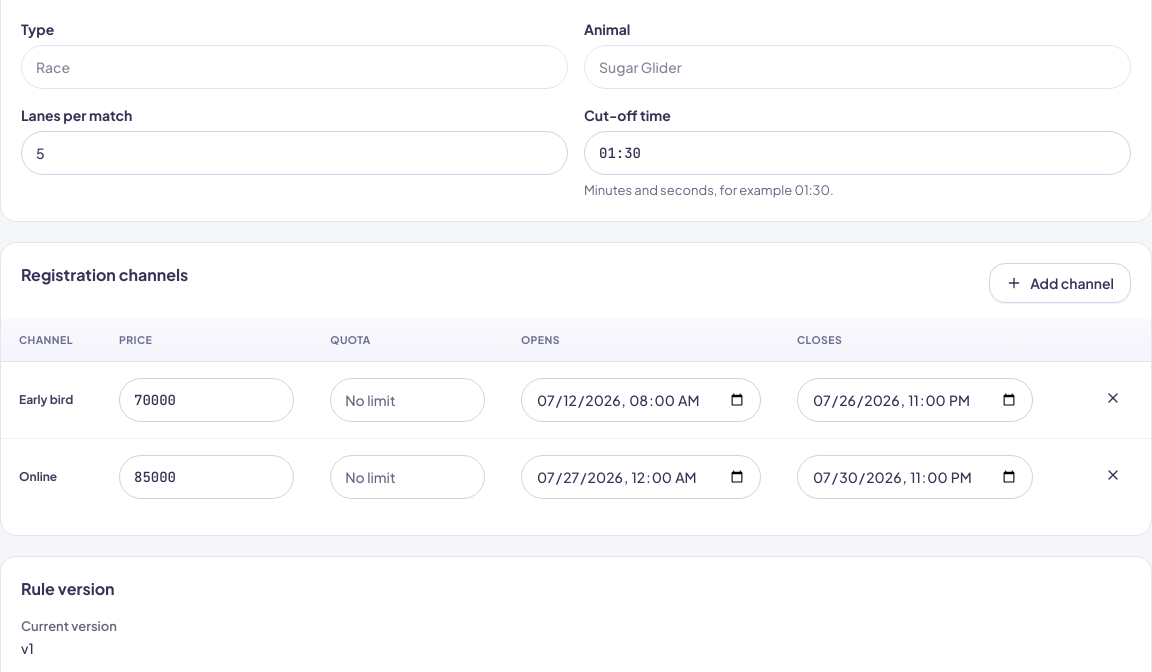
Test: CompetitionSettings › blocks saving a cut-off that is not mm:ss
This screenshot has width=1152, height=672.
Type "abc" into the field labelled "Cut-off time Minutes and seconds, for example 01:30." at (858, 153), box [584,131,1131,175]
(page scrolled)
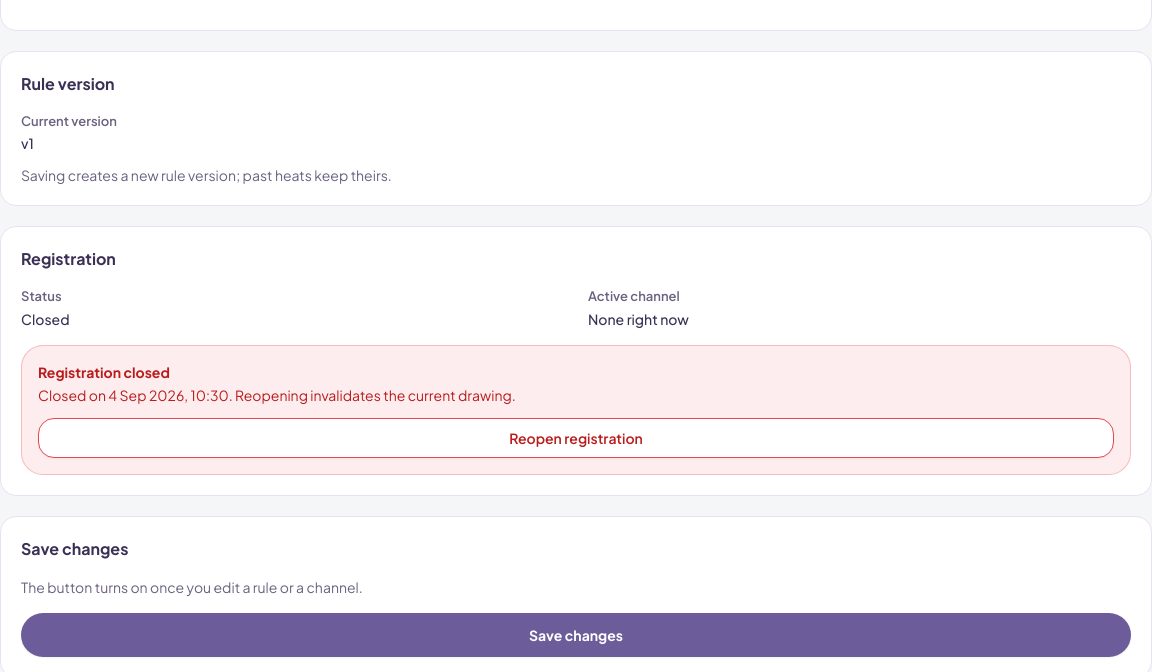
Click the button "Save changes" at (576, 634), box [21,612,1131,656]
(page scrolled)
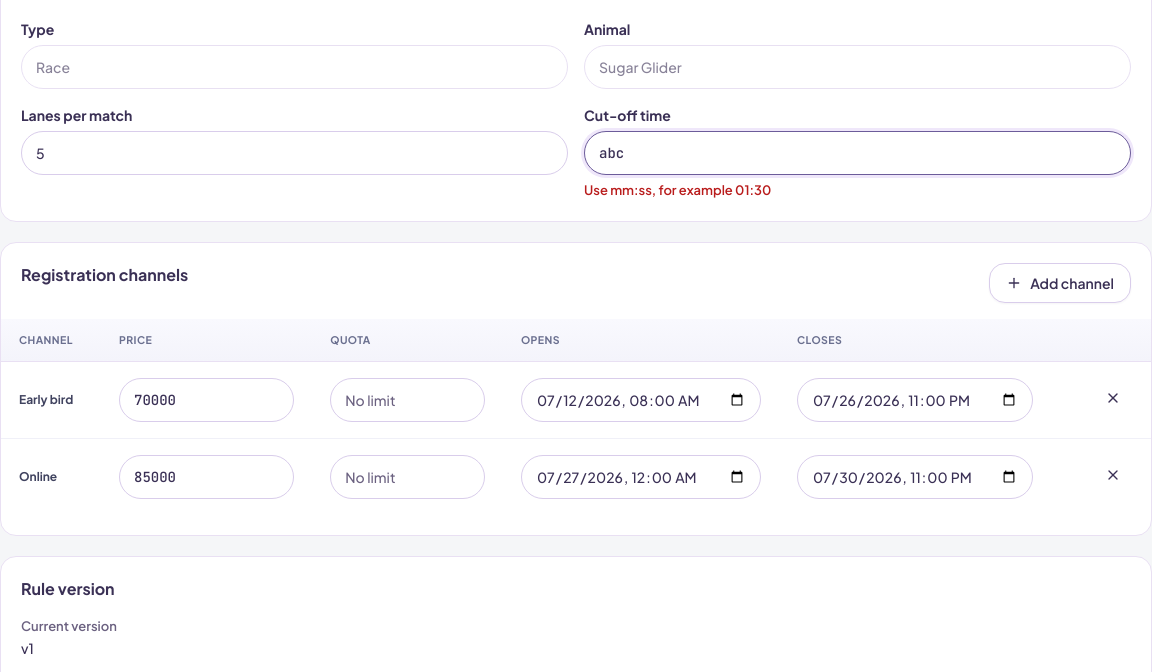
Now the text "Use mm:ss, for example 01:30" is shown, box [584,182,771,198]
